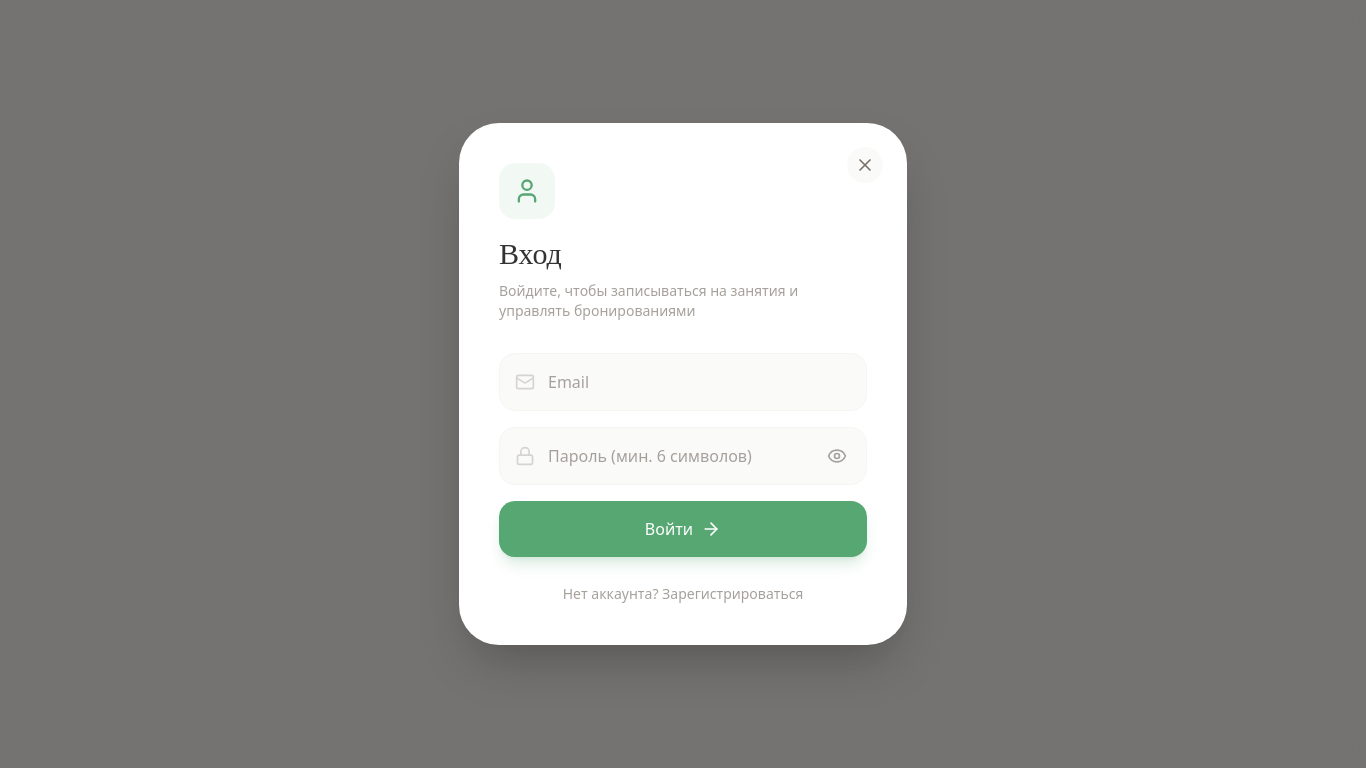
it: LoginModal › switches to register mode
Click the button "Нет аккаунта? Зарегистрироваться": [683, 594] box 563,584 -> 803,604
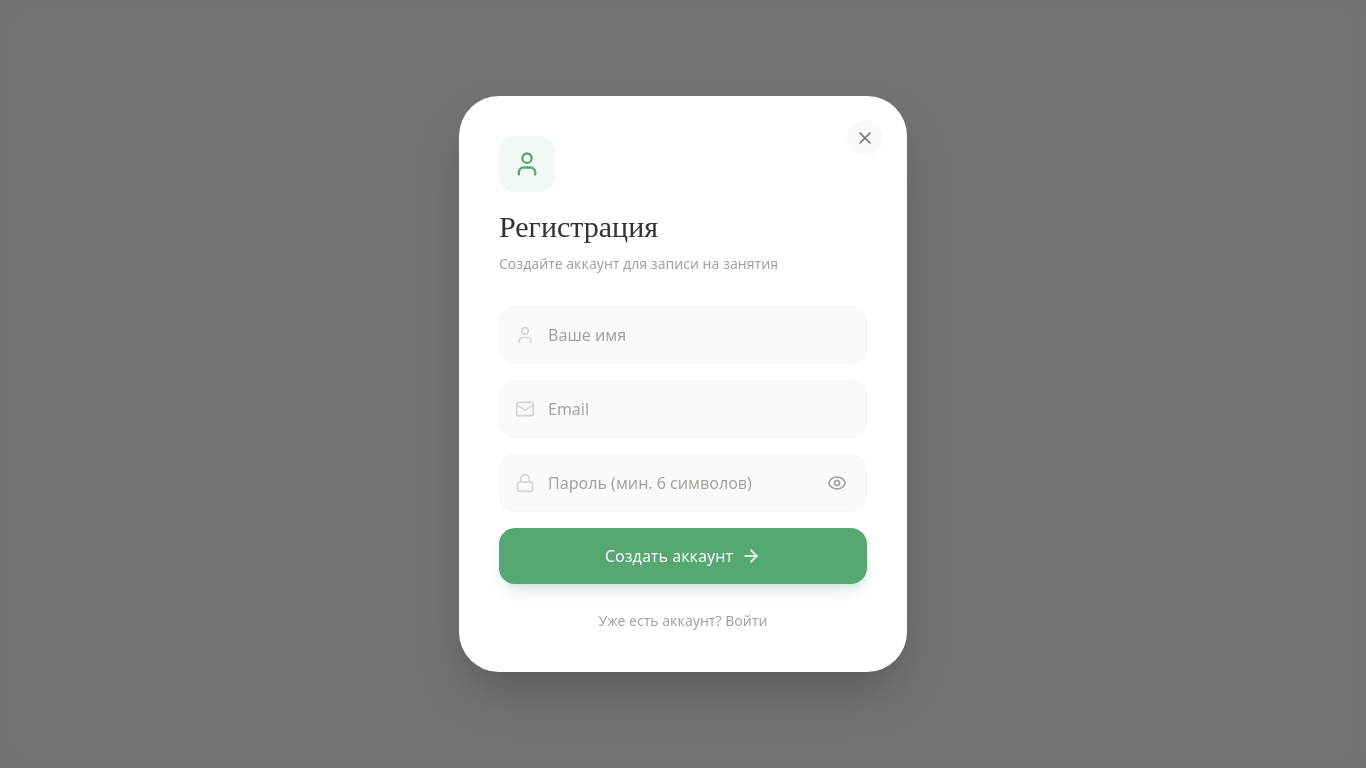
expect the heading "Регистрация" is shown: met, box 499,210 -> 658,243
expect the field with placeholder "Ваше имя" is shown: met, box 499,306 -> 867,364
